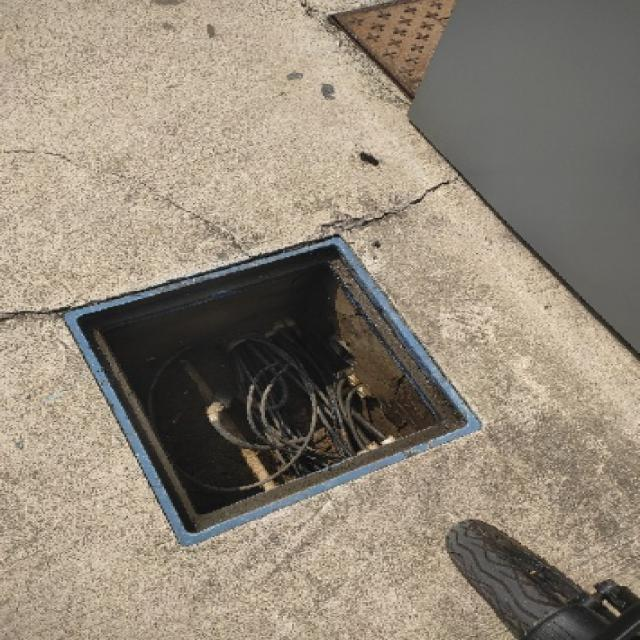Faulty: (38, 221, 511, 550)
